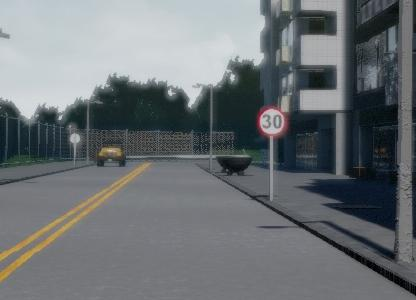Speed_30: (254, 103, 288, 139)
